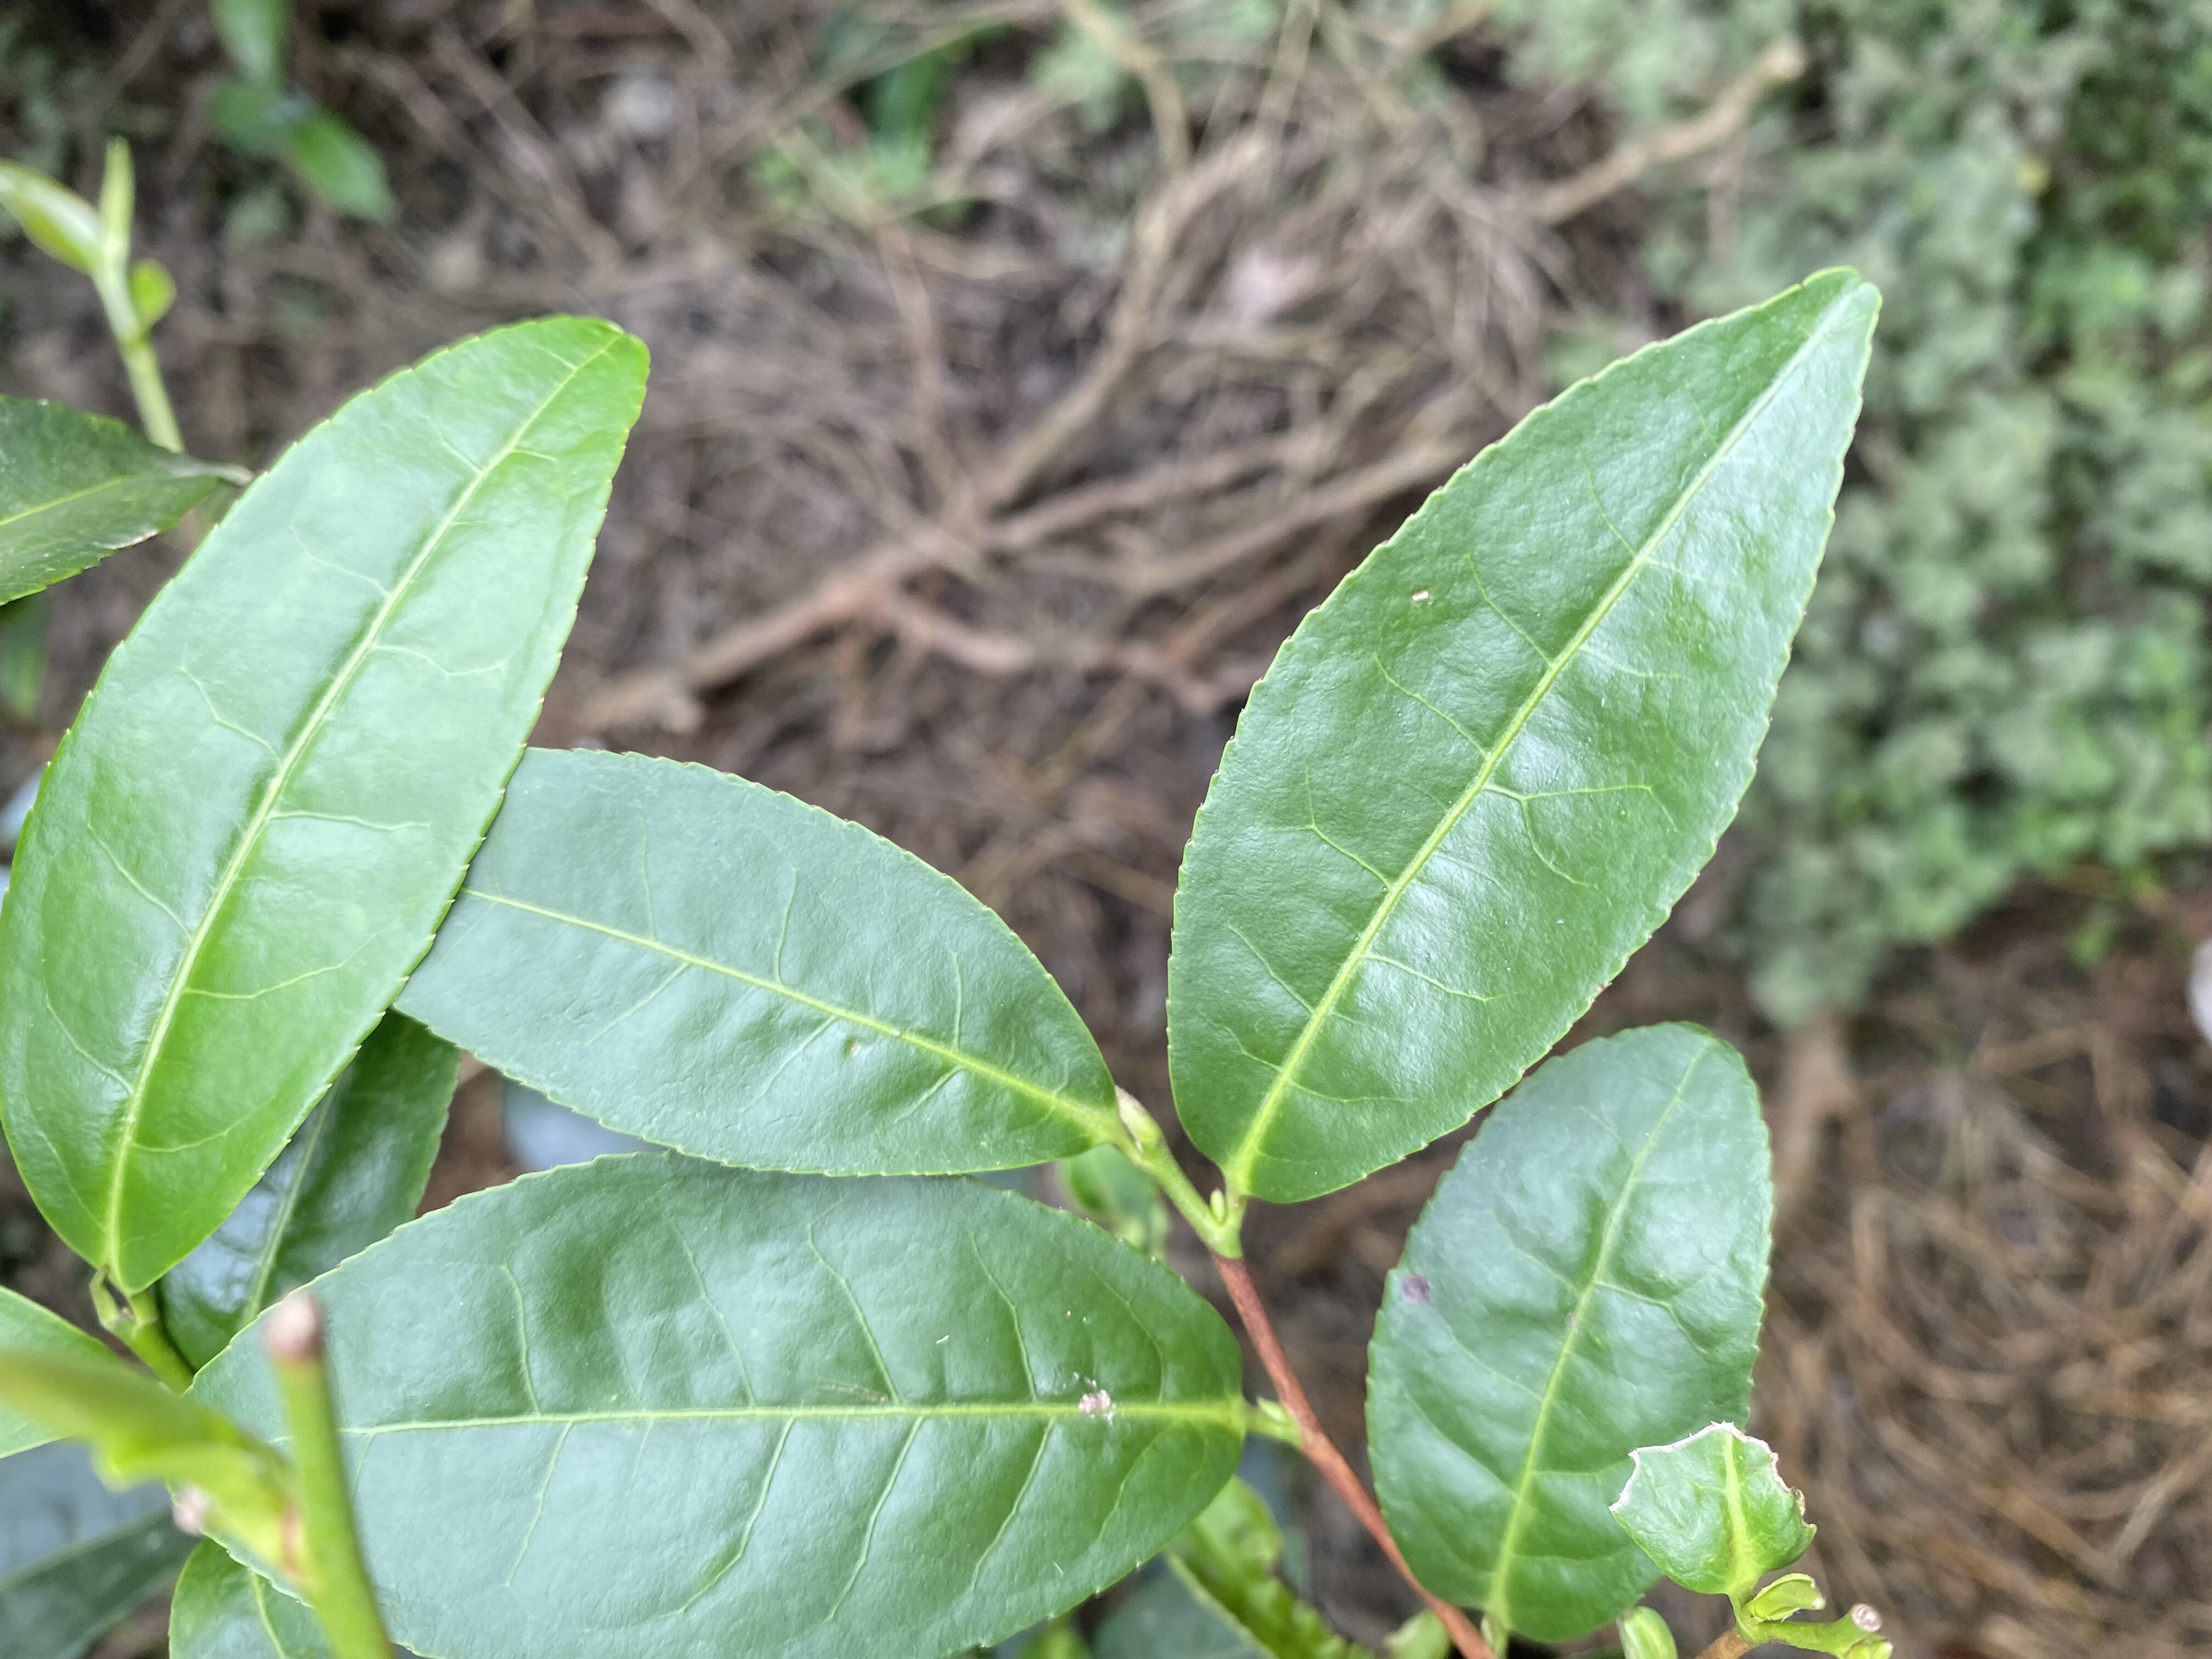chihuo_high: (1608, 1419, 1820, 1595)
healthy: (1163, 263, 1886, 1204), (5, 317, 653, 1290), (394, 748, 1120, 1180)
tanju_low: (167, 1150, 1251, 1659), (1360, 1019, 1778, 1647)
